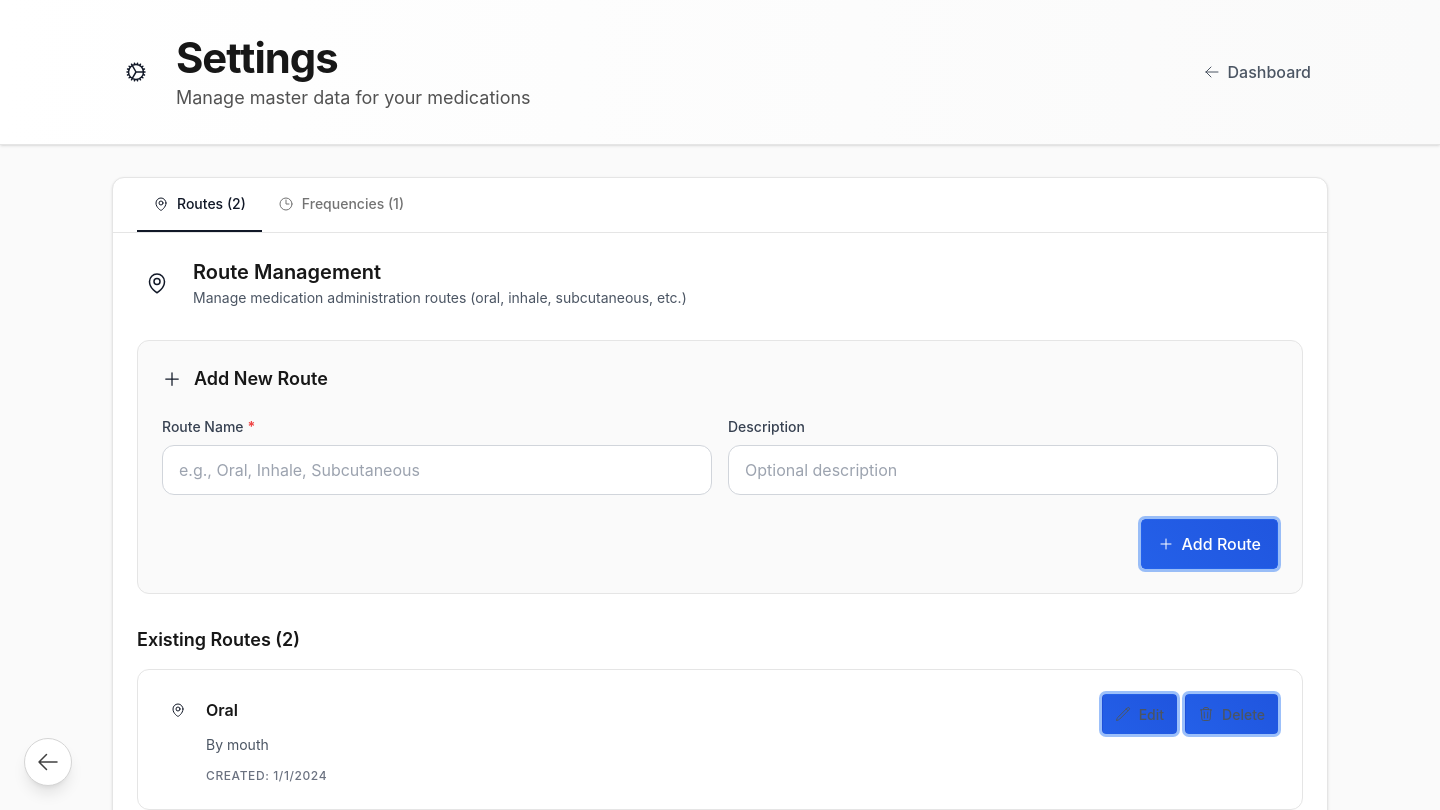
Test case: Settings Component › Route Management › validates route form with required fields
The width and height of the screenshot is (1440, 810).
Expected: the heading "Add New Route" is shown, x1=194 y1=365 x2=328 y2=392
Note: Try to submit empty form
Click the button "Add Route" at (1209,544), box x1=1141 y1=519 x2=1278 y2=569
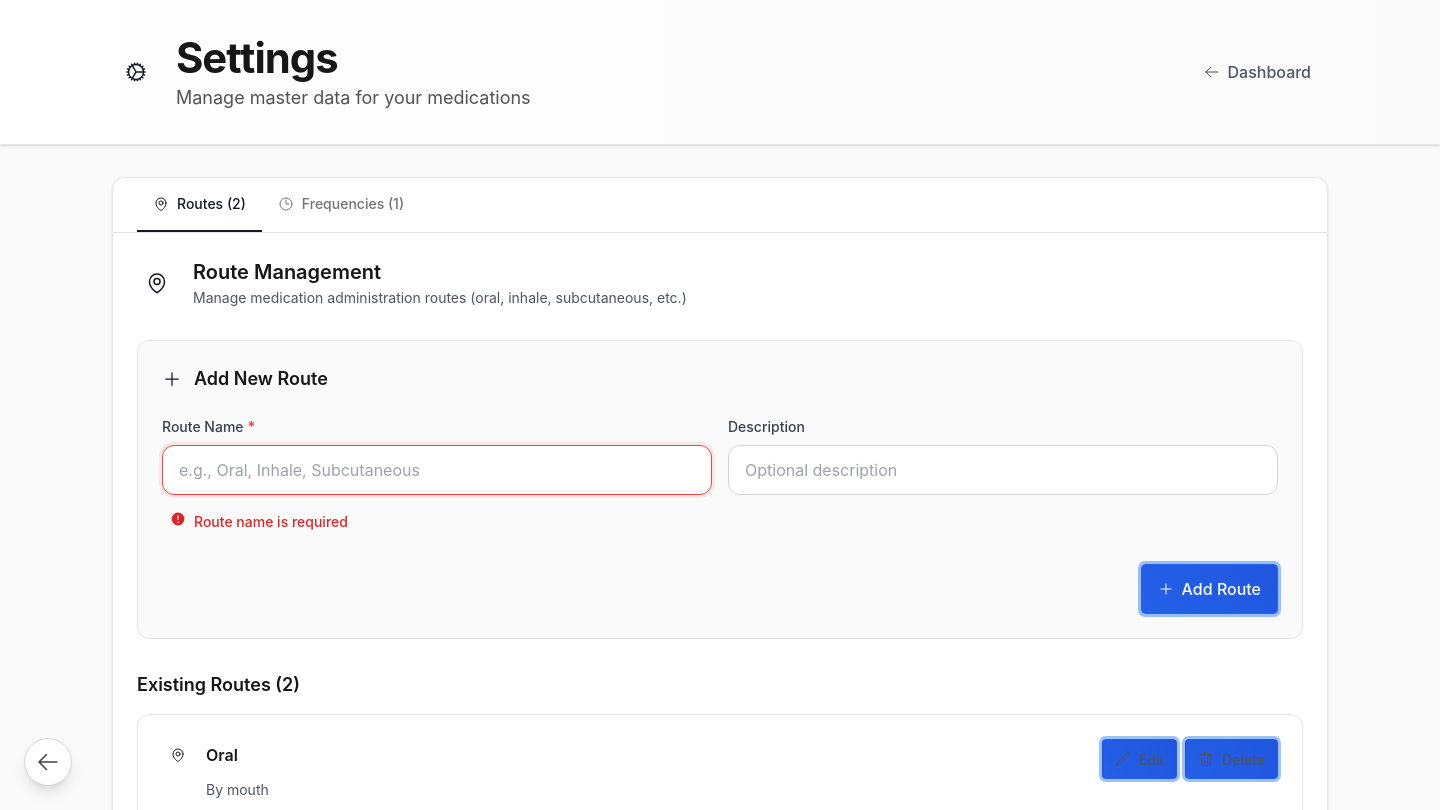
Expected: the text "Route name is required" is shown, x1=194 y1=511 x2=348 y2=532
